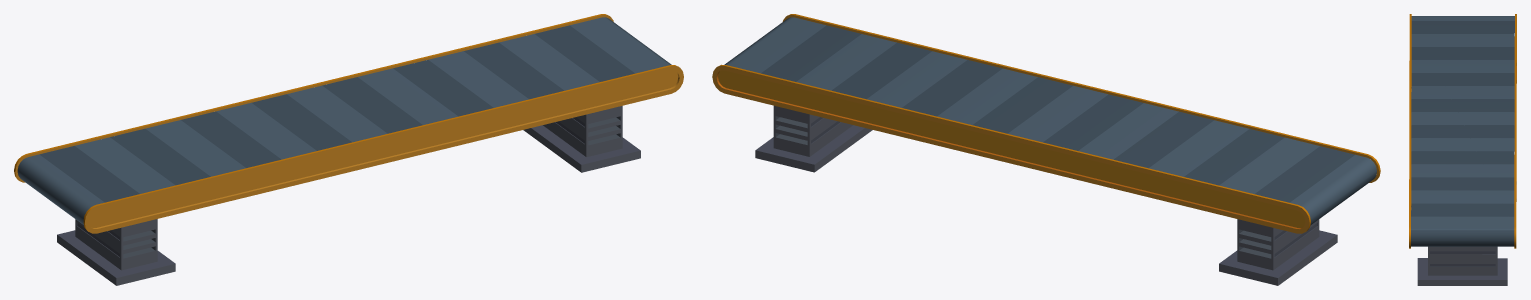
File: Conveyor_Long-transformed.glb
3 renders of one model, left to right at view 1: azimuth 30°, elevation 25°; view 2: azimuth 150°, elevation 25°; view 3: azimuth 270°, elevation 25°, orthographic. The views are drawn at different scales.
Visible parts, largest first — view 1: PaletArrow.010, PaletSide.010; view 2: PaletArrow.010, PaletSide.010; view 3: PaletArrow.010, PaletSide.010.
Part boxes in pixels (x1,y1,x2,y2): PaletArrow.010: (17, 17, 671, 224); PaletSide.010: (14, 14, 683, 285); PaletArrow.010: (724, 17, 1376, 225); PaletSide.010: (712, 14, 1380, 285); PaletArrow.010: (1411, 16, 1514, 246); PaletSide.010: (1409, 14, 1516, 285).
Bounding box in the file's own units: 8.11 × 1.17 × 1.67.
Materials: 2 (2 with a texture image).
